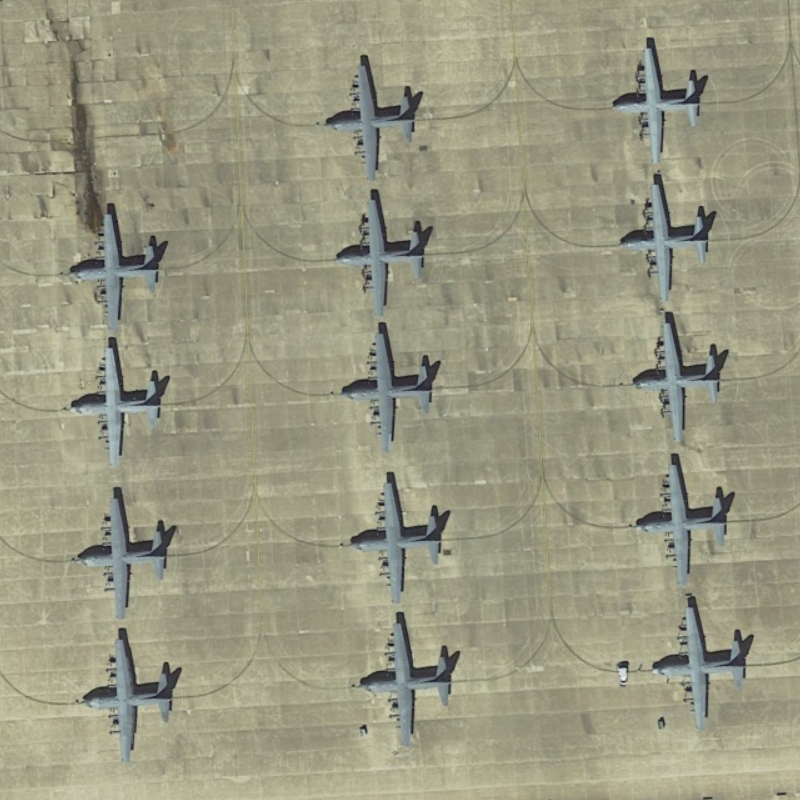A2: (643, 598, 755, 728), (76, 627, 180, 767), (69, 486, 176, 620), (63, 339, 168, 472), (336, 326, 443, 454), (626, 315, 730, 444), (65, 204, 168, 334), (354, 615, 456, 744), (343, 473, 447, 599), (615, 174, 715, 305), (632, 454, 733, 582), (320, 52, 421, 180), (332, 194, 432, 323), (610, 39, 708, 168)
